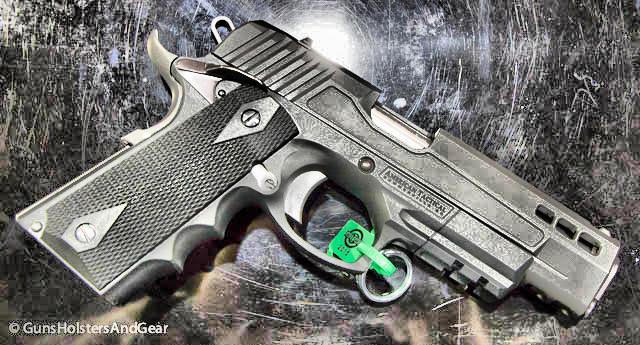pistol: (10, 13, 620, 325)
